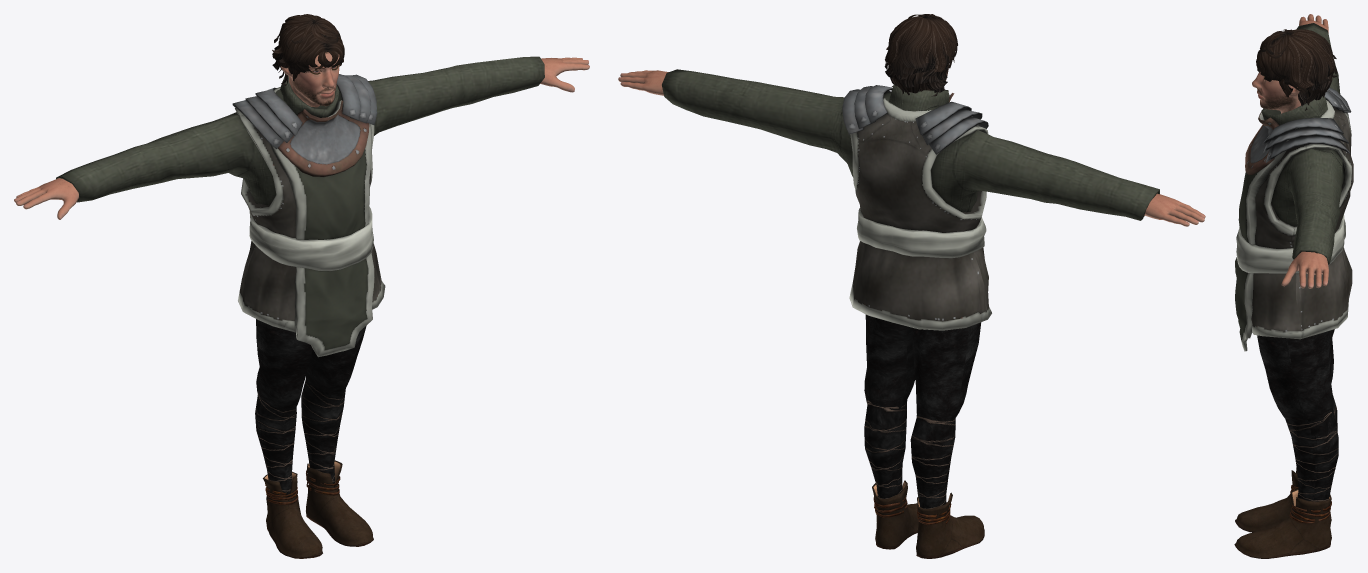
The model's file is Archer.obj.
The picture shows the model from 3 angles, left to right: view 1: azimuth 30°, elevation 25°; view 2: azimuth 150°, elevation 25°; view 3: azimuth 270°, elevation 25°; orthographic projection. The views are drawn at different scales.
Visible parts, largest first — view 1: Tops, Bottoms, Shoes, Body, Hair; view 2: Tops, Bottoms, Shoes, Hair, Body; view 3: Tops, Bottoms, Shoes, Hair, Body.
Part boxes in pixels (box(x1,y1,x2,y2)): Tops: box(56, 56, 544, 357); Bottoms: box(255, 319, 366, 497); Shoes: box(263, 460, 373, 558); Body: box(14, 51, 589, 219); Hair: box(272, 14, 344, 85); Tops: box(662, 69, 1159, 330); Bottoms: box(864, 314, 981, 508); Shoes: box(872, 480, 984, 558); Hair: box(884, 14, 957, 96); Body: box(618, 69, 1205, 226); Tops: box(1235, 23, 1353, 351); Bottoms: box(1257, 329, 1338, 501); Shoes: box(1234, 467, 1331, 558); Hair: box(1256, 29, 1337, 110); Body: box(1252, 14, 1328, 288).
Bounding box in the file's own units: 212 × 183 × 38.89.
5 materials, 5 textured.
